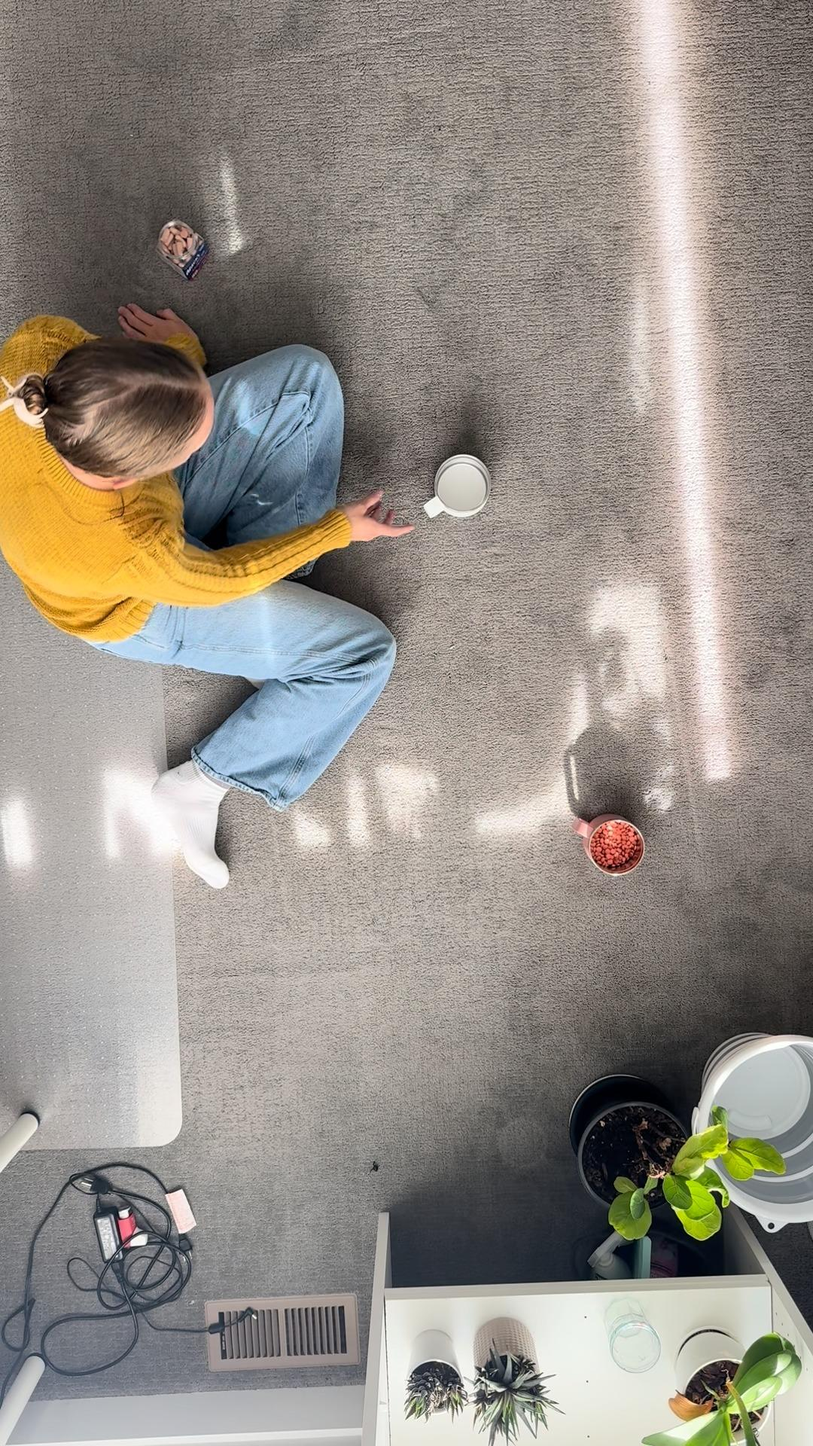IBC: (567, 796, 649, 885), (419, 447, 498, 528)
